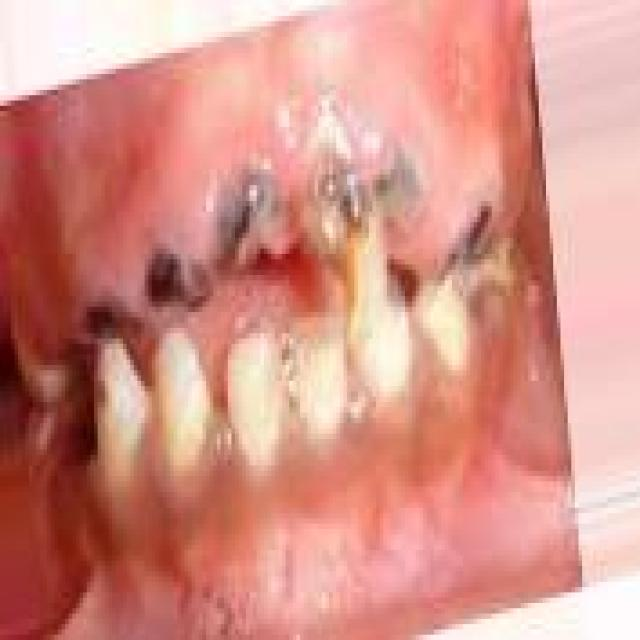caries: (298, 154, 386, 351), (207, 157, 299, 286), (137, 230, 224, 331), (437, 192, 504, 320), (80, 275, 158, 378), (371, 141, 430, 240)
